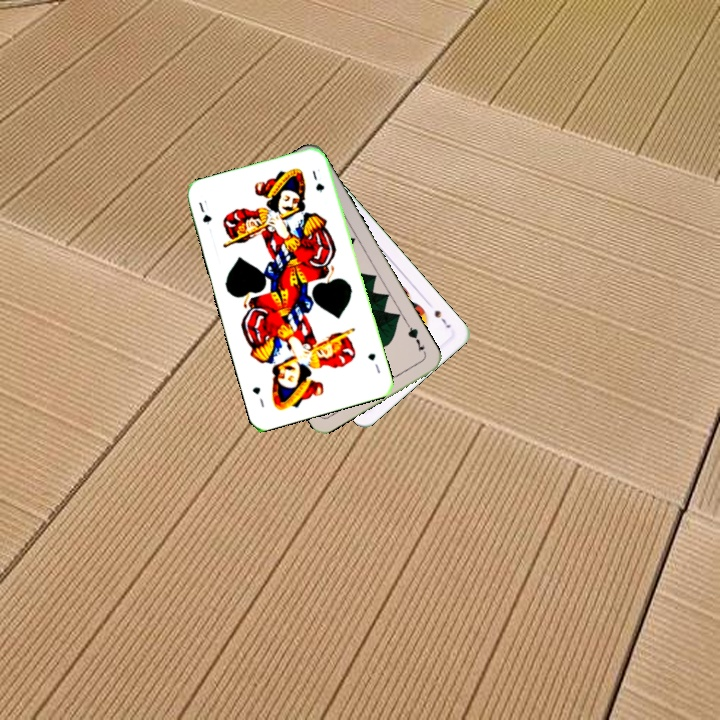G7: (403, 320, 429, 358)
GU: (194, 196, 214, 227), (364, 349, 383, 376)
S7: (430, 306, 453, 331)
